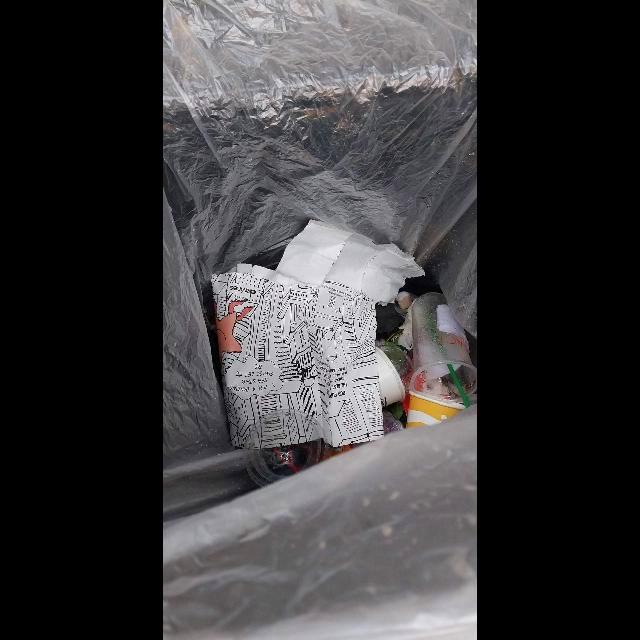cardboard: (406, 390, 466, 429)
paper: (211, 264, 384, 450), (276, 220, 425, 307)
plastic_container: (410, 293, 477, 408)
